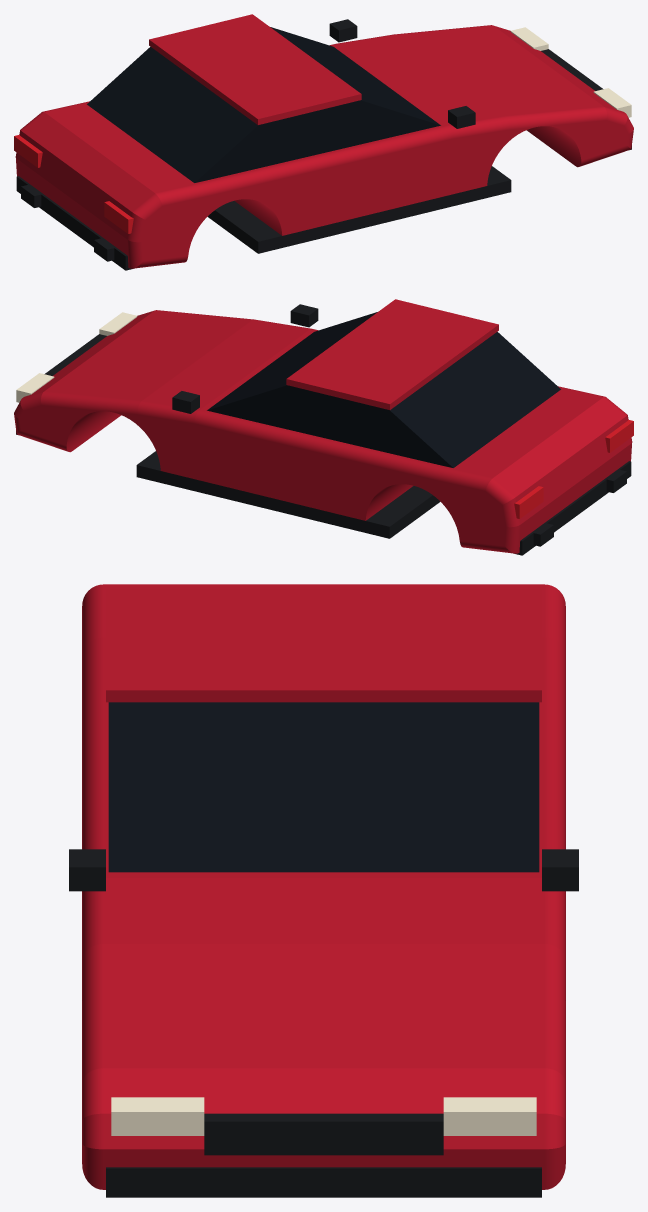
File: coupe.glb
3 renders of one model, top to bottom at view 1: azimuth 30°, elevation 25°; view 2: azimuth 150°, elevation 25°; view 3: azimuth 270°, elevation 25°, orthographic. The views are drawn at different scales.
Parts seen in each view (by area): view 1: Body, Glass, Roof, Trim3, Trim2, Tail1, Trim4, Tail0, Trim5, Head1, Trim1, Head0 (+2 smaller); view 2: Body, Glass, Roof, Trim3, Trim2, Tail0, Trim5, Tail1, Trim4, Head0, Trim1, Head1 (+2 smaller); view 3: Body, Glass, Roof, Trim0, Trim1, Head0, Head1, Trim4, Trim5.
Part boxes in pixels (box(x1,y1,x2,y2)): Body: box(15, 25, 633, 268); Glass: box(87, 27, 440, 182); Roof: box(149, 14, 361, 124); Trim3: box(207, 166, 511, 253); Trim2: box(16, 176, 134, 270); Tail1: box(104, 201, 133, 233); Trim4: box(329, 19, 357, 42); Tail0: box(14, 134, 42, 167); Trim5: box(448, 106, 475, 128); Head1: box(593, 88, 631, 117); Trim1: box(541, 49, 603, 90); Head0: box(510, 27, 548, 50); Body: box(14, 310, 632, 553); Glass: box(207, 312, 560, 467); Roof: box(286, 299, 498, 409); Trim3: box(136, 451, 440, 538); Trim2: box(513, 461, 631, 555); Tail0: box(514, 486, 543, 518); Trim5: box(290, 304, 318, 327); Tail1: box(605, 419, 633, 452); Trim4: box(172, 391, 199, 413); Head0: box(16, 373, 54, 402); Trim1: box(44, 334, 106, 375); Head1: box(99, 312, 137, 335); Body: box(82, 584, 565, 1189); Glass: box(108, 702, 539, 872); Roof: box(106, 589, 541, 702); Trim0: box(106, 1167, 541, 1197); Trim1: box(204, 1113, 443, 1155); Head0: box(443, 1097, 536, 1135); Head1: box(111, 1097, 204, 1135); Trim4: box(542, 849, 578, 891); Trim5: box(69, 849, 105, 891).
Bounding box in the file's own units: 4.47 × 1.07 × 1.92.
